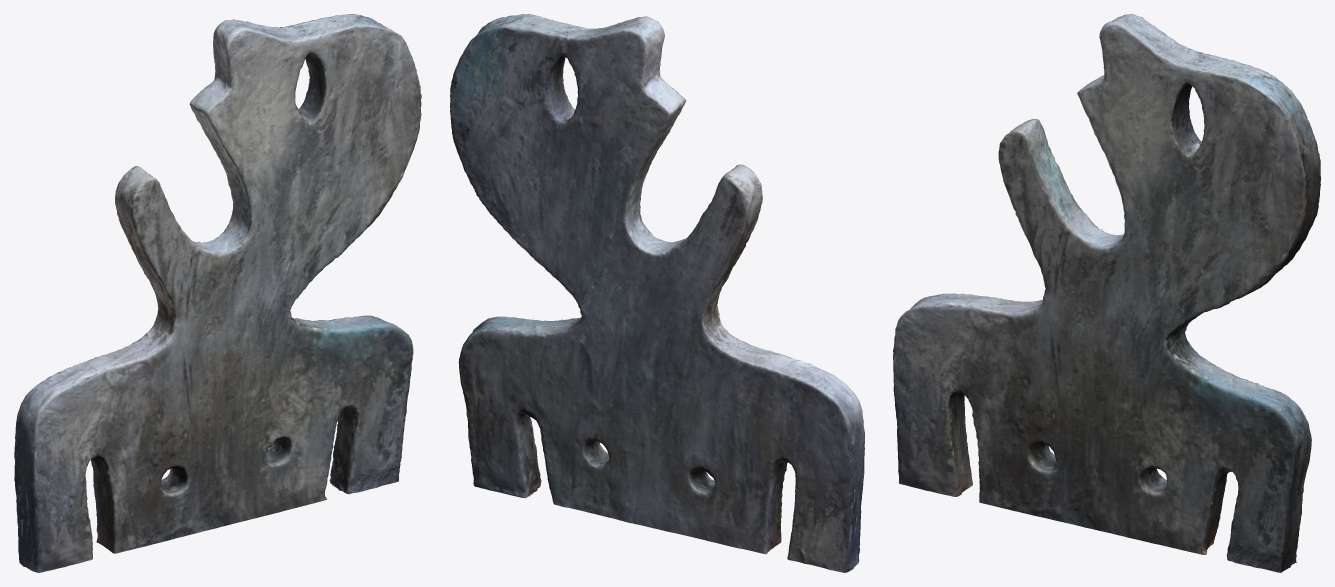
3 renders of one model, left to right at view 1: azimuth 30°, elevation 25°; view 2: azimuth 150°, elevation 25°; view 3: azimuth 330°, elevation 25°, orthographic. The views are drawn at different scales.
Visible parts, largest first — view 1: model; view 2: model; view 3: model.
Part boxes in pixels (x1,y1,x2,y2): model: (14,14,421,572); model: (450,14,864,572); model: (893,14,1320,572).
Bounding box in the file's own units: 1.15 × 1.36 × 0.1142.
1 material, 1 textured.
